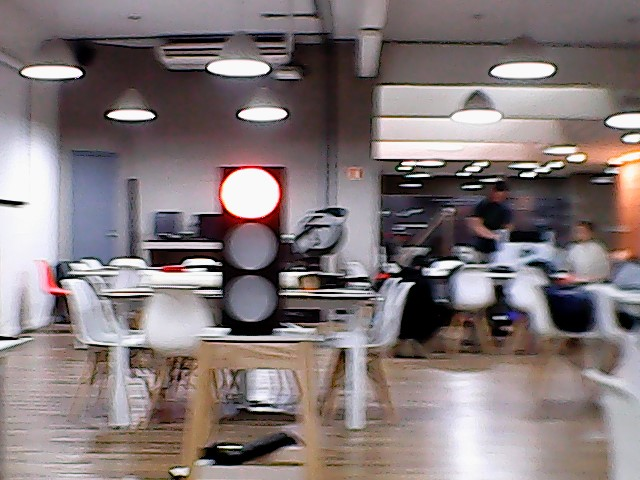vermelho: (217, 161, 287, 331)
